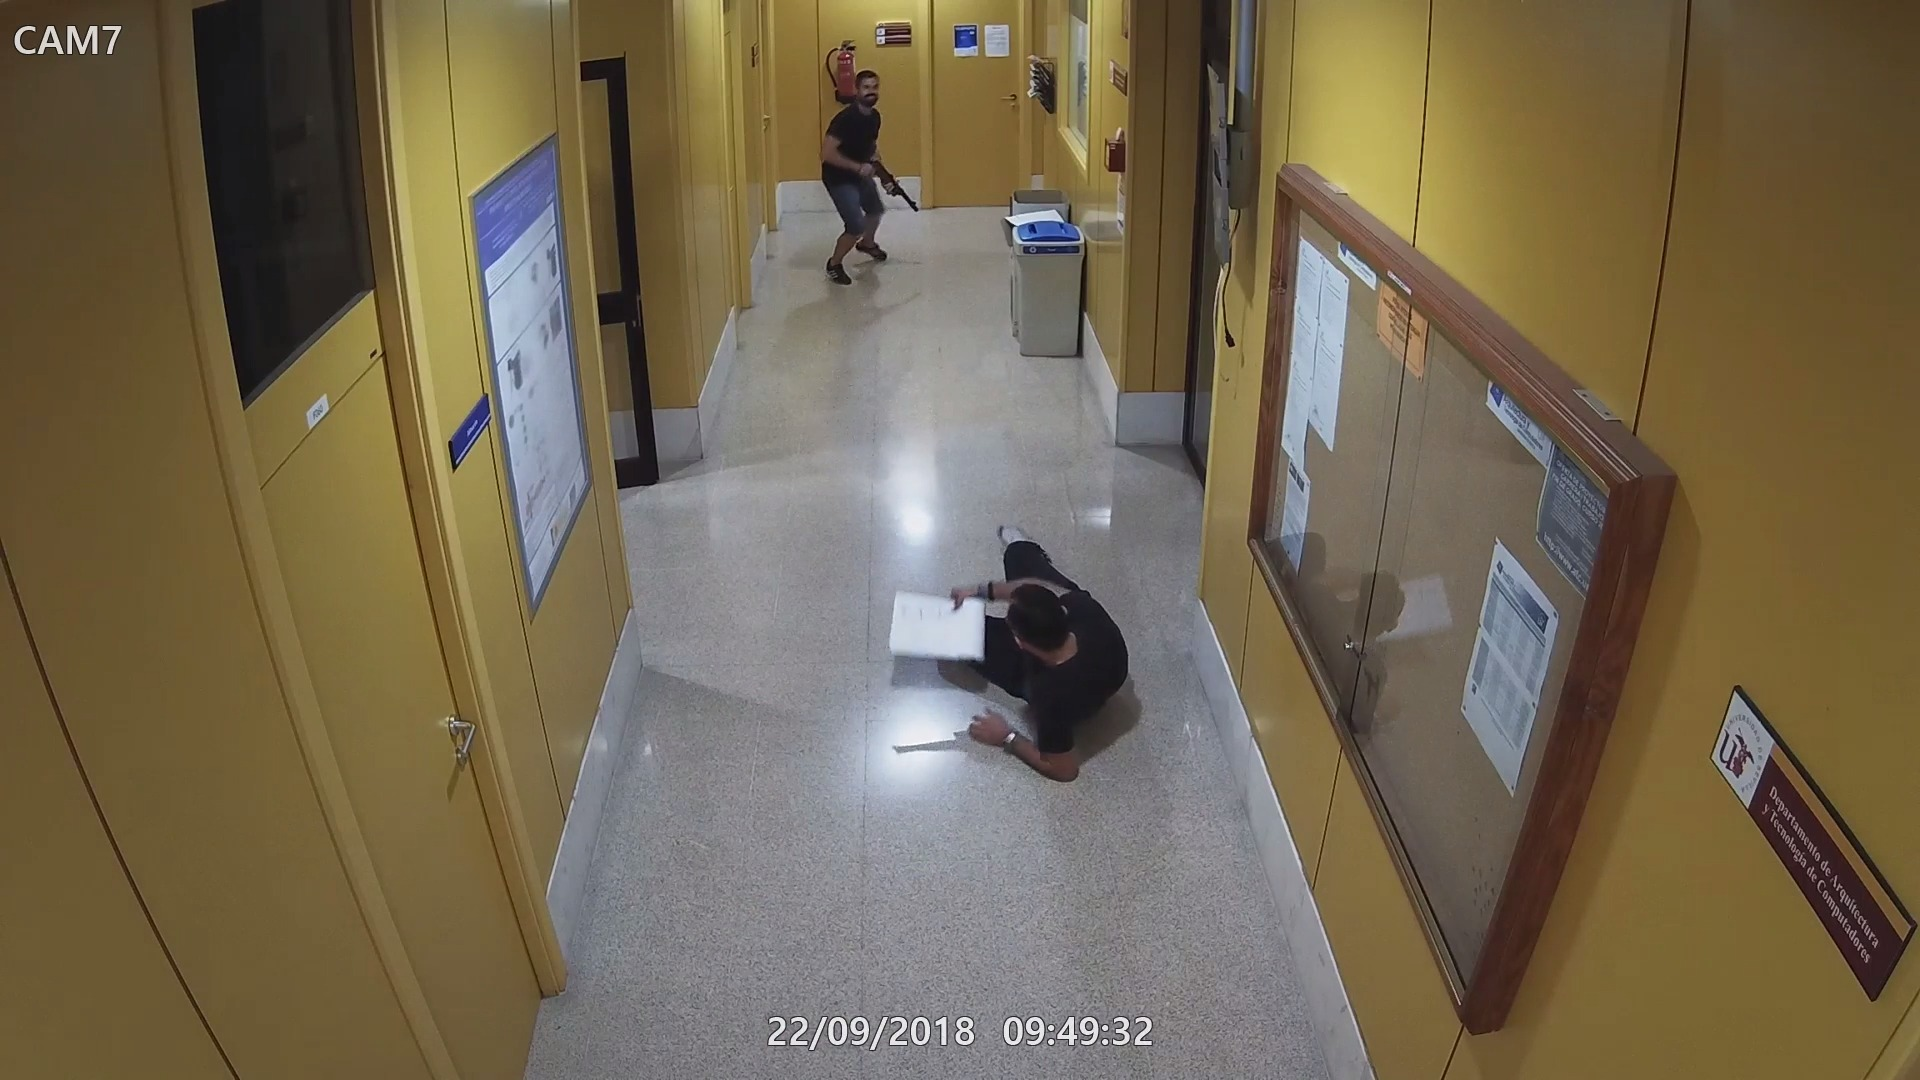rifle: (862, 157, 918, 208)
